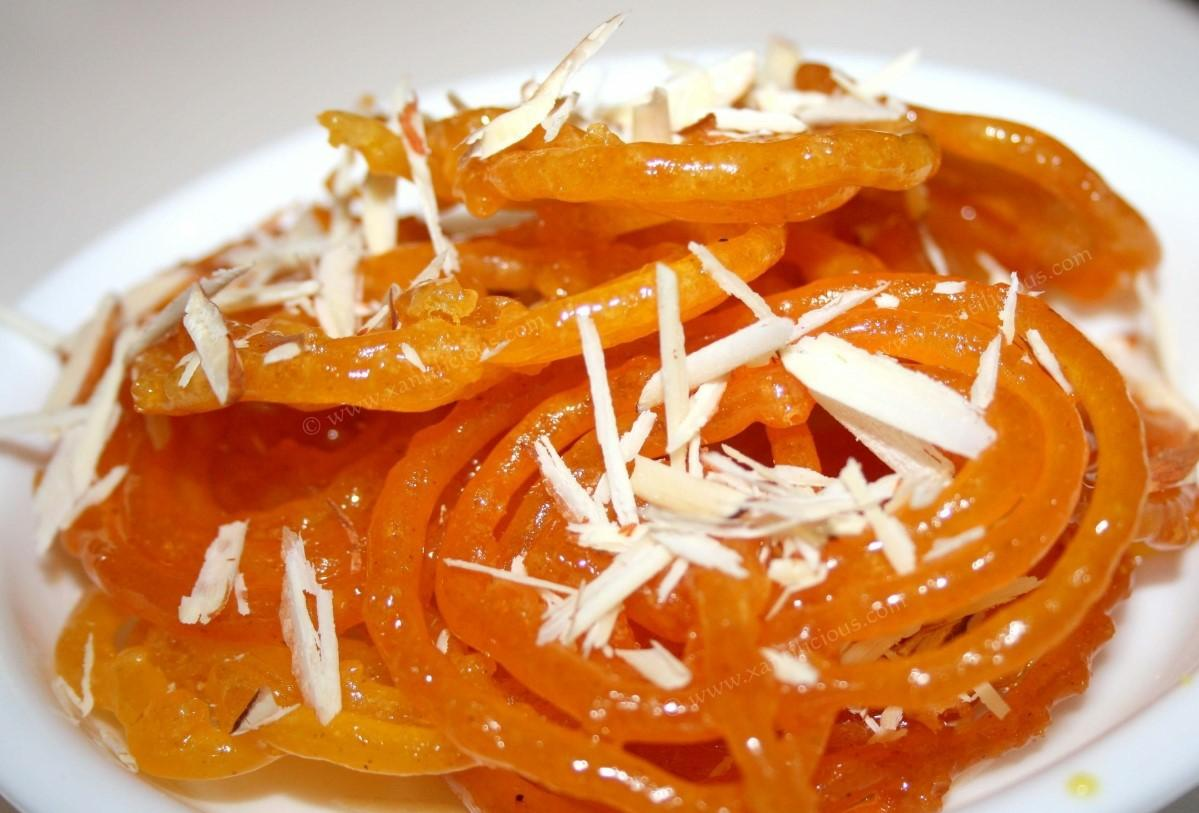Jalebi: (44, 47, 1199, 806)
